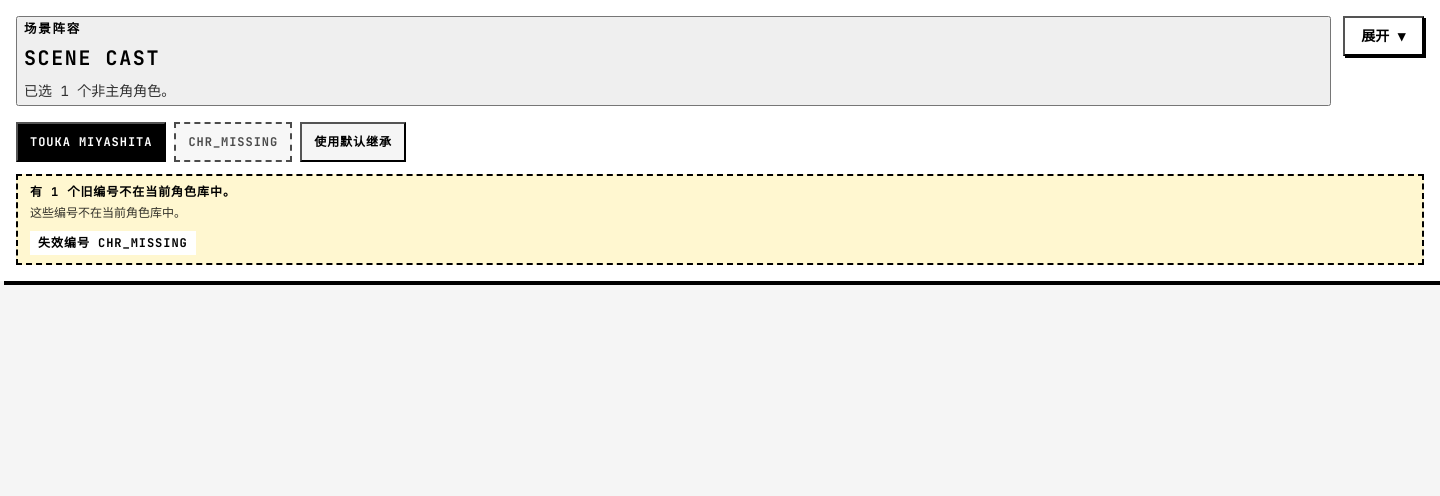
Test: SceneCastSelector › shows stale ids as disabled warnings and never renders the hero as selectable
Expected: the text "有 1 个旧编号不在当前角色库中。" is shown, 30,184 -> 236,200
Expected: the button with aria-label "失效编号 chr_missing" is disabled, 174,122 -> 292,162
Click the button named "场景阵容" at (1384, 36), box 1343,16 -> 1424,56
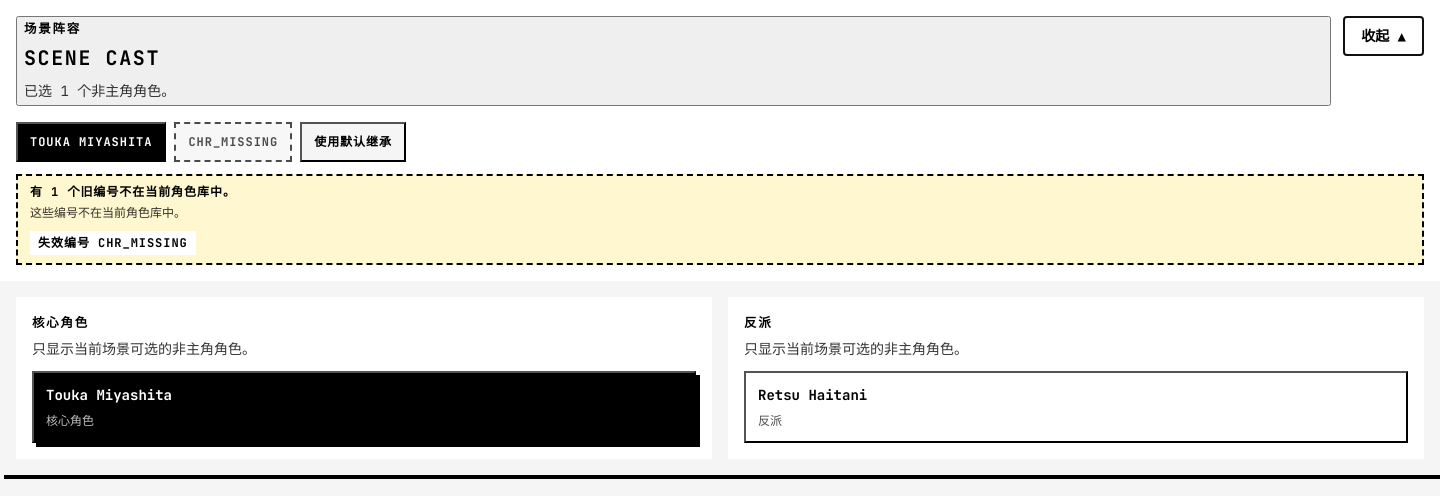
Expected: the text "这些编号不在当前角色库中。" is shown, 30,205 -> 186,221
Now the button with aria-label "选择 核心角色 Touka Miyashita" is shown, box 32,371 -> 696,443
Now the button with aria-label "选择 反派 Retsu Haitani" is shown, box 744,371 -> 1408,443
